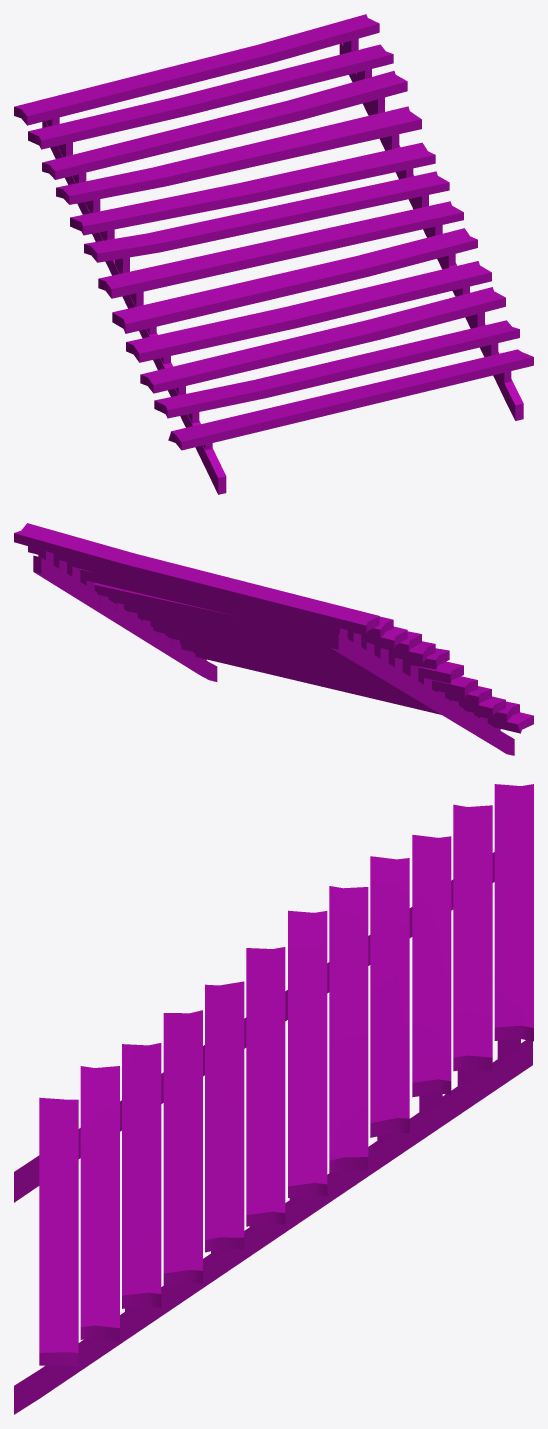
Rendered from Stairs_Wood 1.fbx.
3 renders of one model, top to bottom at view 1: azimuth 30°, elevation 25°; view 2: azimuth 150°, elevation 25°; view 3: azimuth 270°, elevation 25°, orthographic. The views are drawn at different scales.
Visible parts, largest first — view 1: Stairs_wood1; view 2: Stairs_wood1; view 3: Stairs_wood1.
Part boxes in pixels (box(x1,y1,x2,y2)): Stairs_wood1: box(14, 14, 533, 494); Stairs_wood1: box(14, 523, 533, 755); Stairs_wood1: box(14, 784, 533, 1414).
Size of the model in its own units: 7.69 by 5.7 by 6.66.
